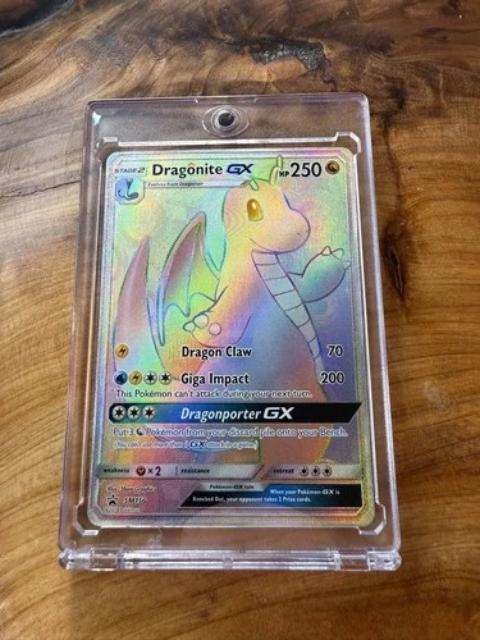Card: (83, 140, 381, 532)
Name: (147, 157, 258, 180)
